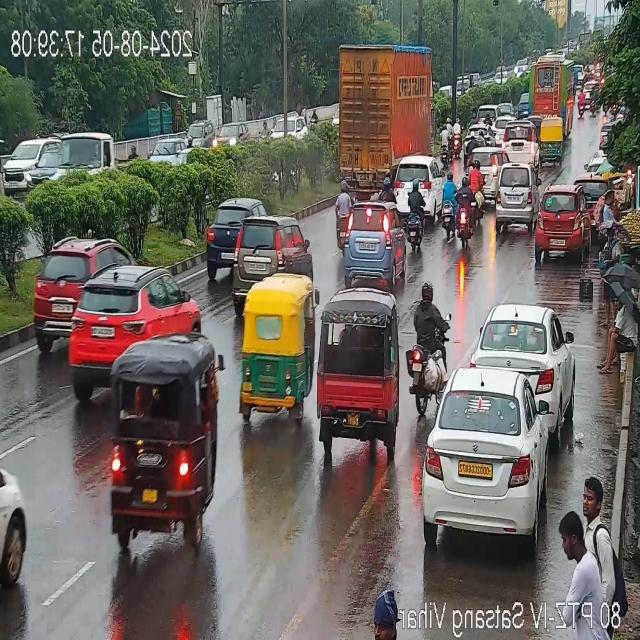2-wheelers: (408, 276, 454, 412), (400, 181, 426, 249), (436, 178, 460, 246), (454, 178, 478, 245), (333, 180, 350, 246), (439, 116, 462, 154), (580, 84, 598, 120), (466, 162, 482, 200), (376, 172, 396, 202), (467, 132, 485, 152), (584, 78, 592, 105), (486, 111, 492, 123)
auto: (105, 338, 223, 548), (310, 296, 396, 446), (234, 274, 312, 419), (538, 121, 566, 164)
bus: (526, 55, 580, 131)
car: (416, 370, 567, 548), (62, 268, 202, 380), (28, 236, 157, 326), (475, 305, 571, 407), (0, 432, 30, 622), (223, 220, 310, 284), (203, 198, 271, 270), (346, 204, 404, 284), (534, 192, 590, 256), (489, 164, 534, 230), (394, 160, 446, 212), (498, 120, 536, 165), (578, 152, 604, 204), (484, 148, 504, 204), (517, 92, 529, 115), (500, 100, 514, 112)
pedestrian: (598, 289, 636, 369), (560, 513, 596, 591), (366, 587, 406, 640), (576, 475, 612, 529), (600, 194, 616, 242)
truck: (324, 44, 444, 194)
